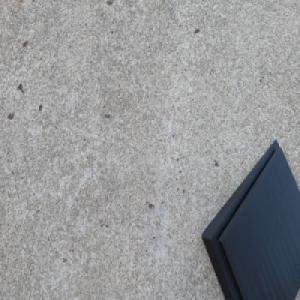PlasticPart: (200, 137, 300, 300)
